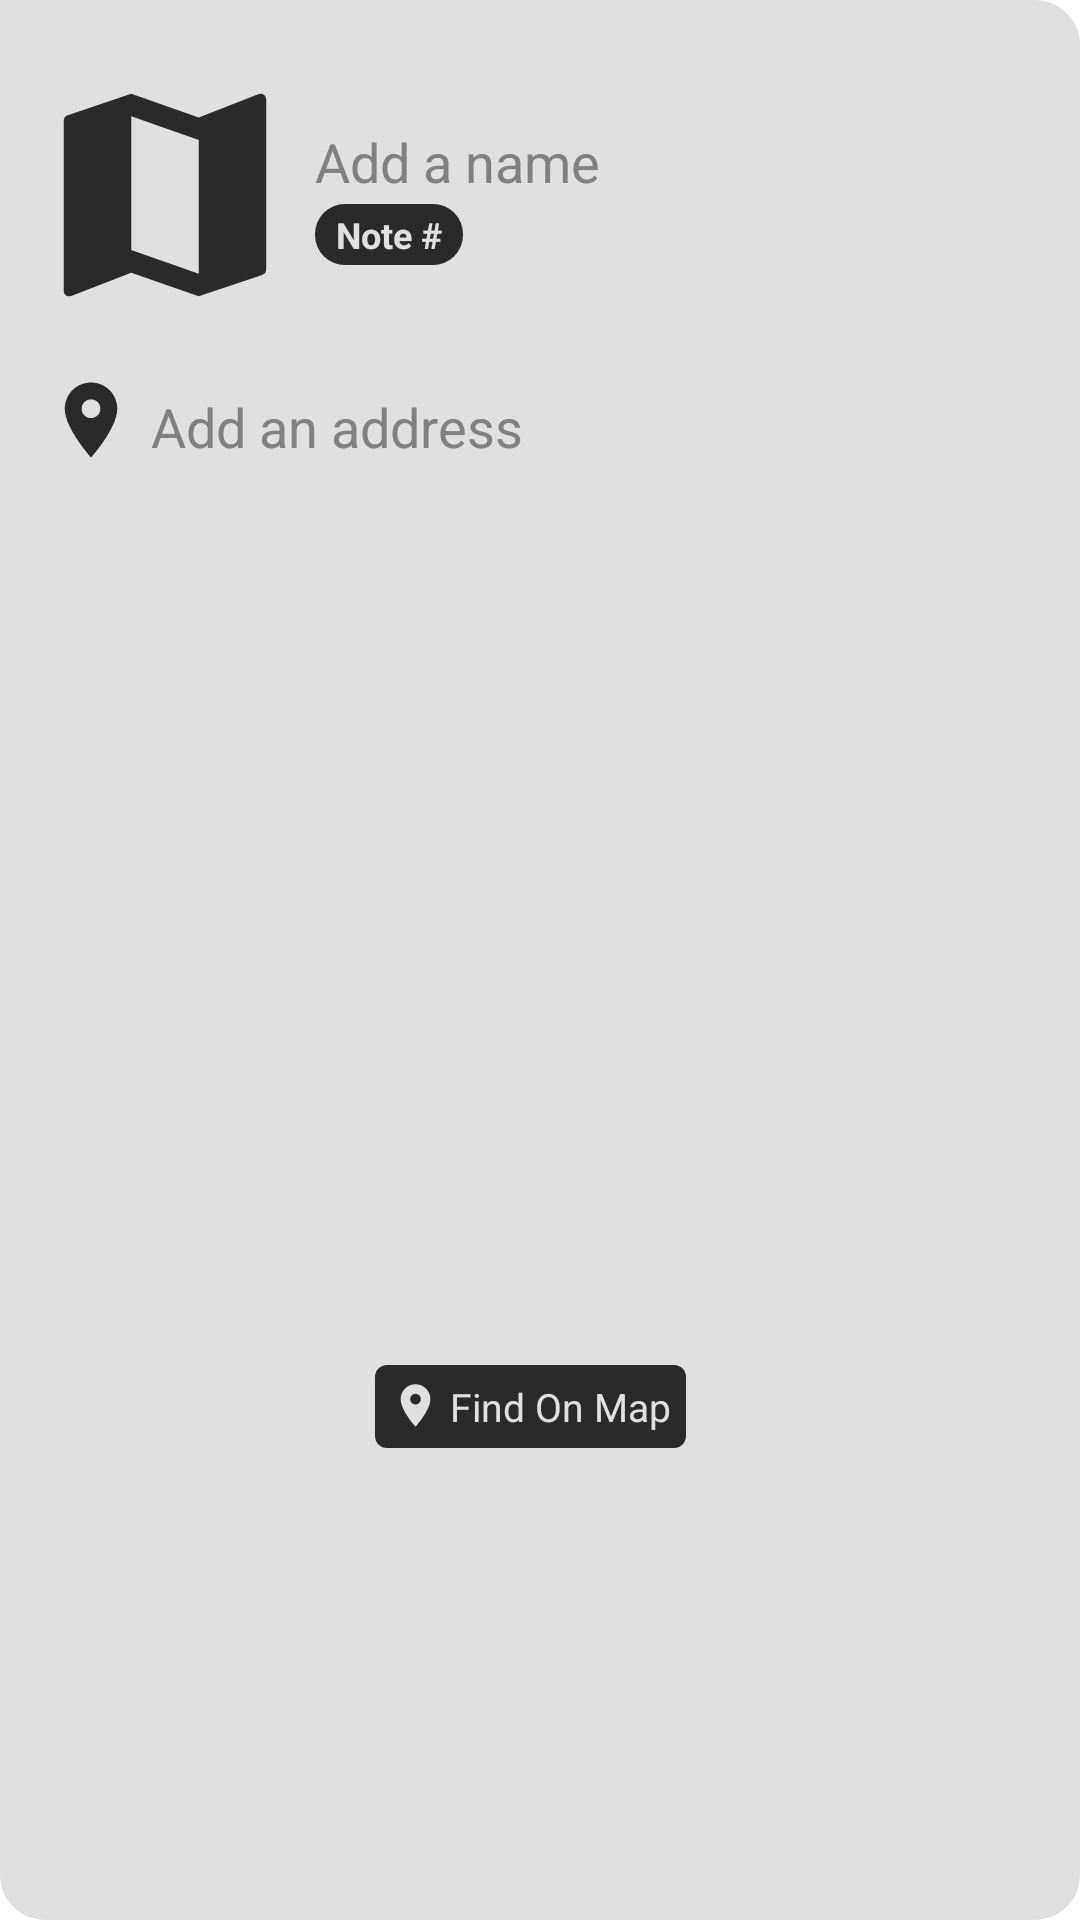

Where icons sit on this 1080x1920 app screen, as region(x1, y1, x2, y2):
position: region(64, 382, 118, 457), region(400, 1384, 431, 1427)
